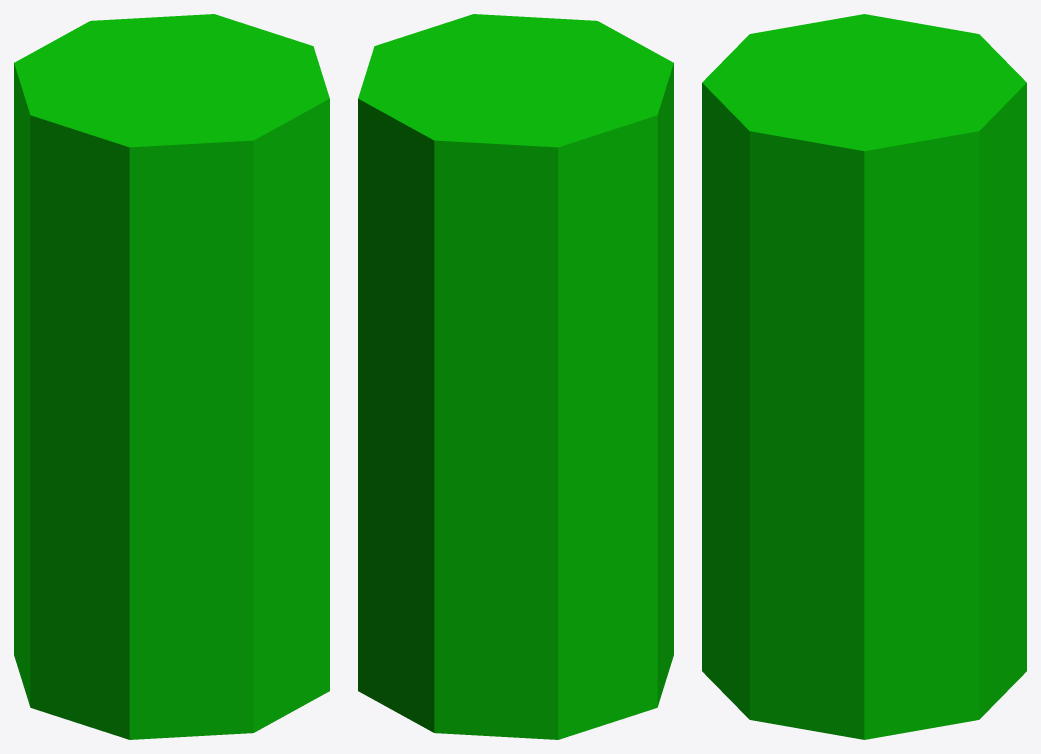
The model's file is UCXCylinderL_low.fbx.
3 views of the same model, side by side, from view 1: azimuth 30°, elevation 25°; view 2: azimuth 150°, elevation 25°; view 3: azimuth 270°, elevation 25° (orthographic).
Visible parts, largest first — view 1: UCX_CylinderL_low_00; view 2: UCX_CylinderL_low_00; view 3: UCX_CylinderL_low_00.
Boxes of the visible parts, box(x1,y1,x2,y2) form: UCX_CylinderL_low_00: box(14, 14, 329, 739); UCX_CylinderL_low_00: box(358, 14, 673, 739); UCX_CylinderL_low_00: box(702, 14, 1026, 739).
Bounding box in the file's own units: 0.045 × 0.09 × 0.045.
